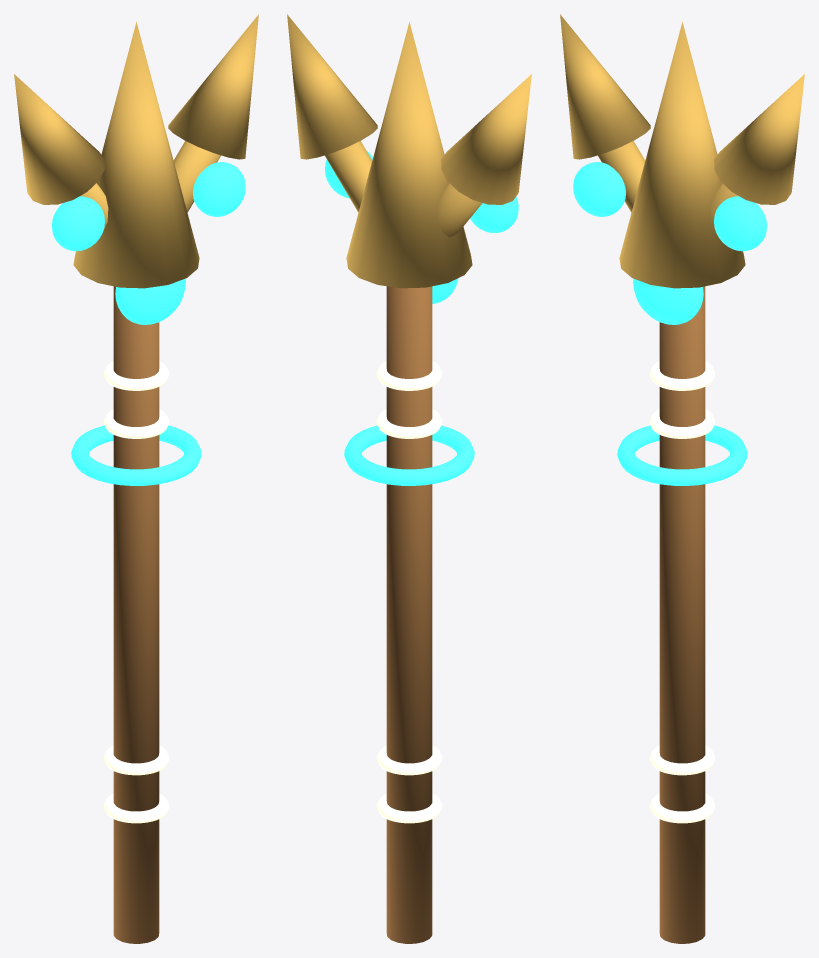
The model's file is TridentModel.fbx.
3 views of the same model, side by side, from view 1: azimuth 30°, elevation 25°; view 2: azimuth 150°, elevation 25°; view 3: azimuth 330°, elevation 25° (orthographic).
Parts seen in each view (by area): view 1: Trident Shaft, Central Trident Blade, Trident Side Blade, Trident Side Blade.001, Ocean Energy Ring, Trident Ocean Gem, Trident Ocean Gem.001, Central Ocean Gem, Trident Side Neck.001, Trident Grip Ring, Trident Grip Ring.001, Trident Grip Ring.003 (+1 smaller); view 2: Trident Shaft, Central Trident Blade, Trident Side Blade, Trident Side Blade.001, Ocean Energy Ring, Trident Side Neck.001, Trident Side Neck, Trident Ocean Gem, Trident Grip Ring, Trident Grip Ring.001, Trident Grip Ring.003, Trident Grip Ring.002; view 3: Trident Shaft, Central Trident Blade, Trident Side Blade.001, Trident Side Blade, Ocean Energy Ring, Trident Ocean Gem.001, Trident Ocean Gem, Central Ocean Gem, Trident Side Neck, Trident Grip Ring, Trident Grip Ring.001, Trident Grip Ring.003 (+1 smaller).
Part boxes in pixels (x1,y1,x2,y2): Trident Shaft: [113, 286, 159, 943]; Central Trident Blade: [73, 21, 199, 288]; Trident Side Blade: [14, 74, 104, 204]; Trident Side Blade.001: [168, 14, 258, 159]; Ocean Energy Ring: [71, 425, 201, 485]; Trident Ocean Gem: [52, 196, 104, 251]; Trident Ocean Gem.001: [193, 162, 245, 216]; Central Ocean Gem: [115, 278, 185, 324]; Trident Side Neck.001: [173, 141, 220, 212]; Trident Grip Ring: [103, 793, 169, 823]; Trident Grip Ring.001: [103, 745, 169, 775]; Trident Grip Ring.003: [103, 361, 169, 390]; Trident Shaft: [386, 286, 432, 943]; Central Trident Blade: [346, 21, 472, 288]; Trident Side Blade: [441, 74, 531, 204]; Trident Side Blade.001: [287, 14, 377, 159]; Ocean Energy Ring: [344, 425, 474, 485]; Trident Side Neck.001: [325, 141, 372, 212]; Trident Side Neck: [437, 183, 482, 237]; Trident Ocean Gem: [470, 196, 518, 232]; Trident Grip Ring: [376, 793, 442, 823]; Trident Grip Ring.001: [376, 745, 442, 775]; Trident Grip Ring.003: [376, 361, 442, 390]; Trident Grip Ring.002: [376, 409, 442, 438]; Trident Shaft: [659, 286, 705, 943]; Central Trident Blade: [619, 21, 745, 288]; Trident Side Blade.001: [714, 74, 804, 204]; Trident Side Blade: [560, 14, 650, 159]; Ocean Energy Ring: [617, 425, 747, 485]; Trident Ocean Gem.001: [714, 196, 766, 251]; Trident Ocean Gem: [573, 162, 625, 216]; Central Ocean Gem: [633, 278, 703, 324]; Trident Side Neck: [598, 141, 645, 212]; Trident Grip Ring: [649, 793, 715, 823]; Trident Grip Ring.001: [649, 745, 715, 775]; Trident Grip Ring.003: [649, 361, 715, 390].
Bounding box in the file's own units: 80 × 285 × 37.
